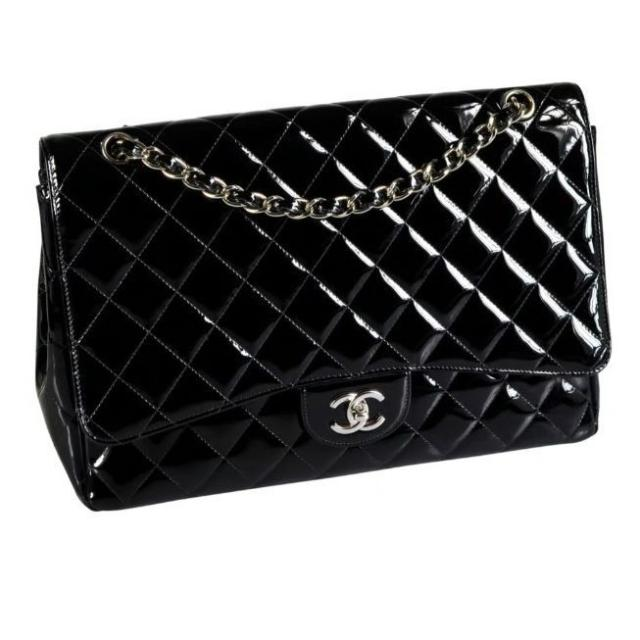Chanel: (318, 383, 400, 443)
